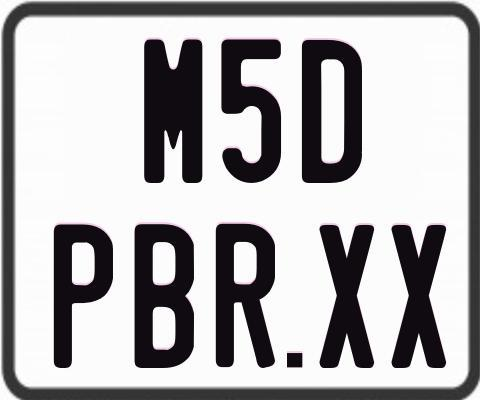5: (218, 36, 283, 180)
B: (132, 224, 194, 373)
D: (301, 39, 363, 183)
M: (143, 36, 202, 183)
P: (51, 223, 111, 372)
R: (216, 224, 279, 374)
X: (320, 225, 379, 370), (391, 225, 447, 368)
